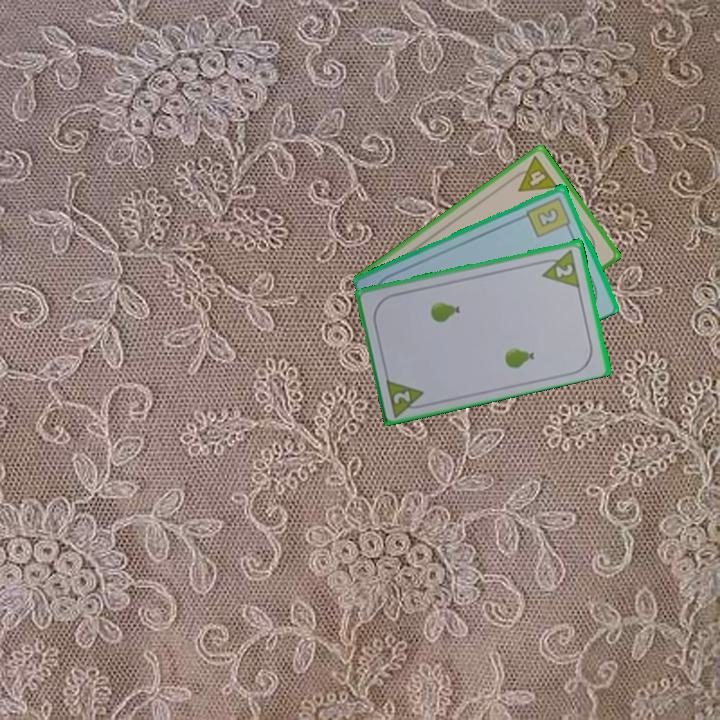2b: (523, 193, 574, 240)
2p: (382, 374, 431, 418), (552, 260, 576, 280)
4p: (507, 152, 561, 195)
